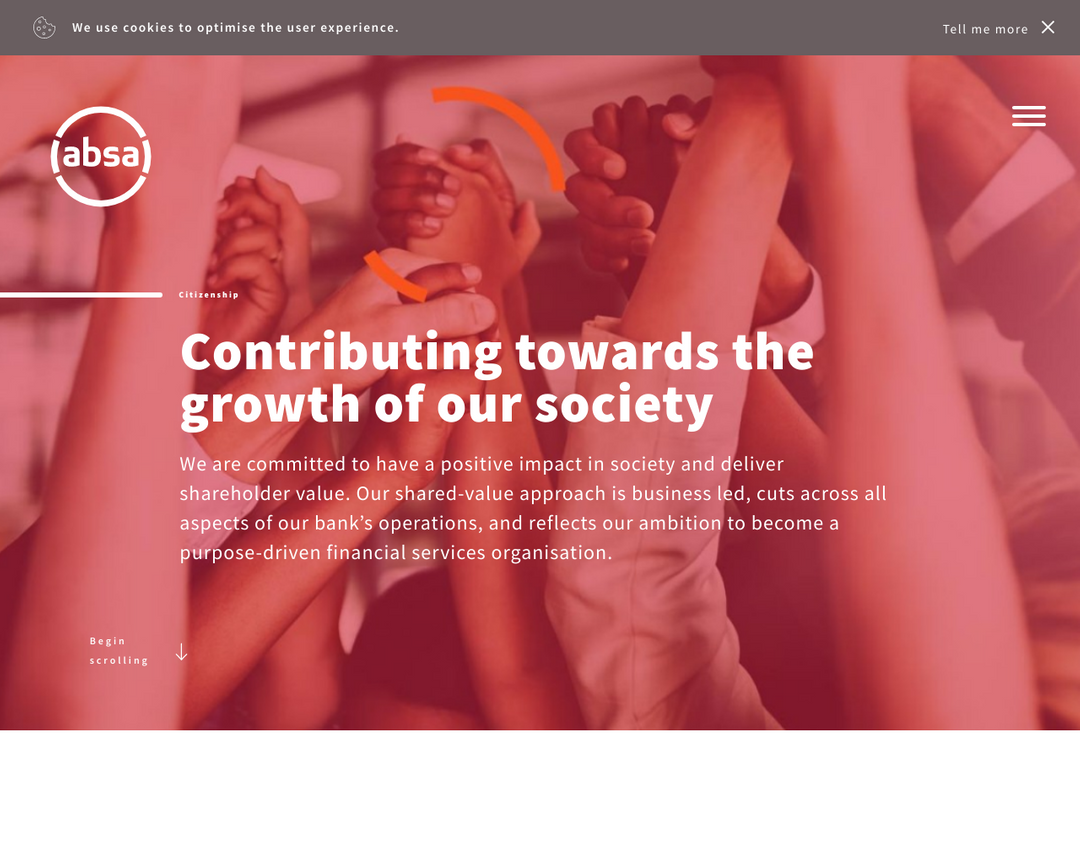ABSA: (46, 101, 156, 211)
